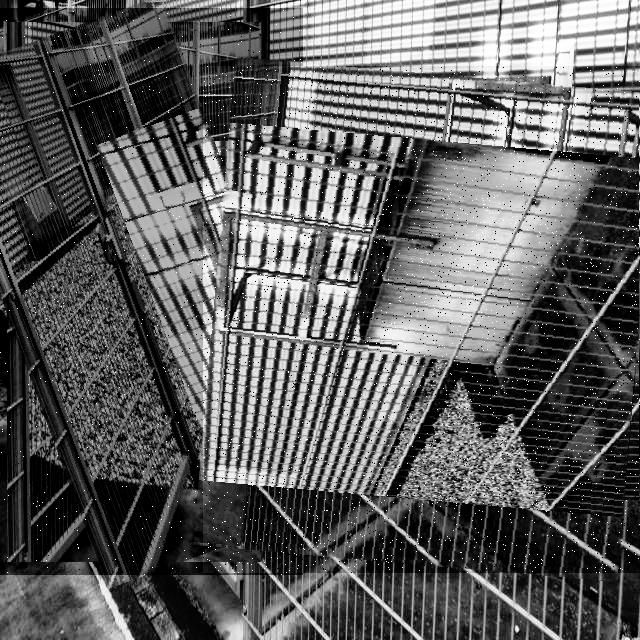fences: (203, 66, 640, 573), (0, 8, 303, 575)
